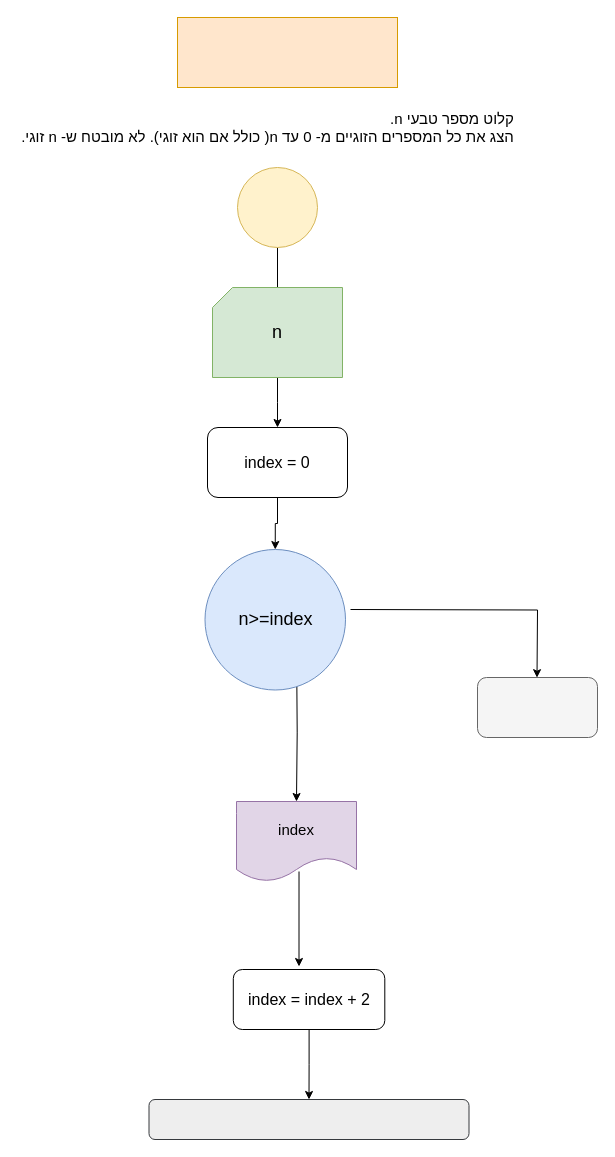
Some shapes in this 615 by 1157 pixel diagram are drawn without their labels. Each missing label, with the centre of its shape:
page 27 ex 3: point 287,52
Start: point 277,207
Stop: point 537,707
